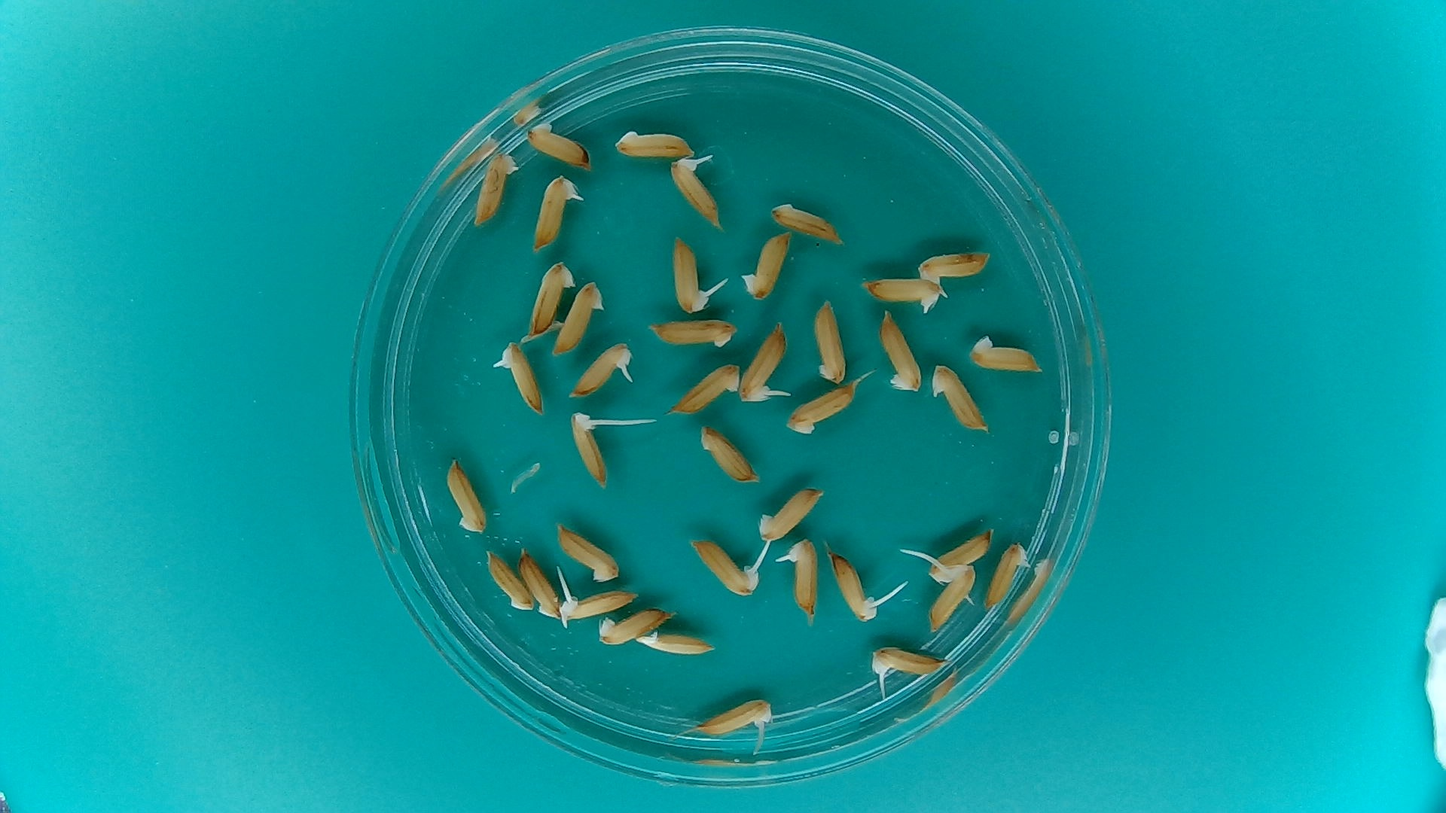no: (551, 277, 606, 360), (471, 147, 525, 230), (929, 361, 990, 434), (667, 359, 743, 417), (552, 522, 622, 583), (756, 483, 826, 543), (697, 422, 761, 486), (878, 308, 926, 393), (526, 259, 576, 340), (740, 228, 794, 303), (442, 453, 490, 535), (785, 383, 859, 435), (768, 199, 850, 243), (523, 120, 593, 171), (982, 537, 1030, 611), (856, 272, 944, 312), (964, 331, 1045, 374), (596, 603, 675, 647), (811, 294, 849, 385), (517, 544, 562, 620), (484, 546, 535, 612), (643, 314, 741, 348), (635, 628, 718, 659), (612, 127, 695, 158)
yes: (689, 536, 761, 598), (926, 524, 993, 585), (739, 321, 787, 404), (566, 338, 631, 399), (668, 151, 721, 225), (530, 172, 577, 254), (668, 236, 716, 314), (690, 694, 775, 738), (923, 567, 979, 632), (498, 341, 546, 416), (828, 553, 878, 620), (915, 246, 993, 287), (569, 411, 608, 492), (559, 586, 642, 623), (868, 647, 944, 680), (786, 543, 818, 618)
